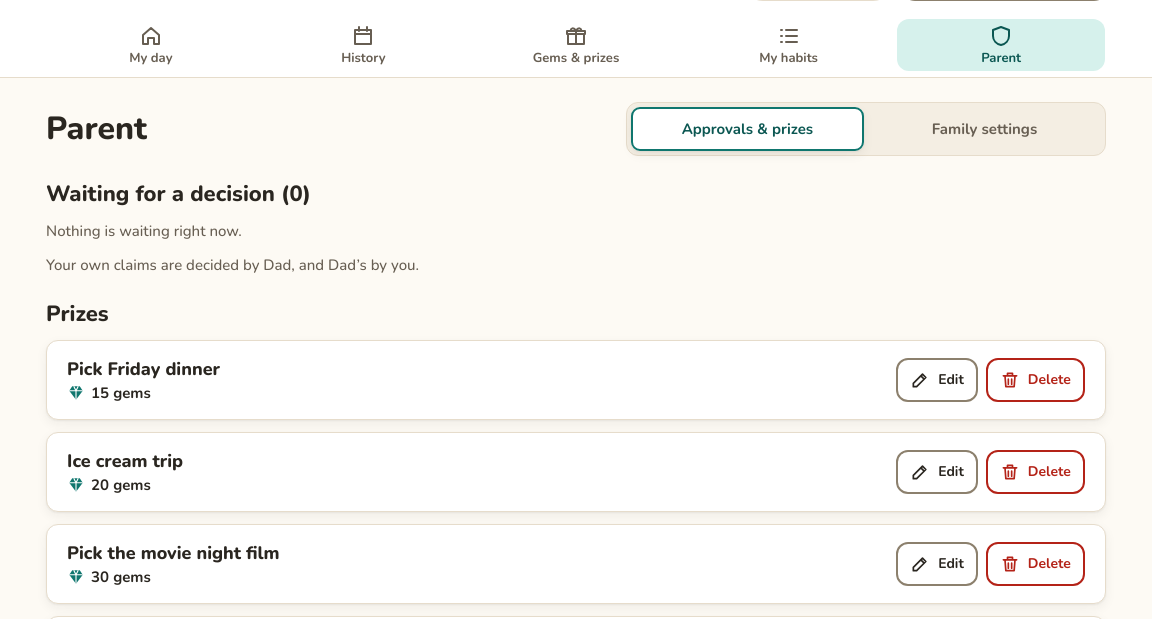
Test: REQ-024 parents manage prizes › a delete that meets a new claim (409) explains why
Click the button named "Delete Pick the movie night film".
click(1035, 564)  # box x1=986 y1=542 x2=1085 y2=586
(page scrolled)
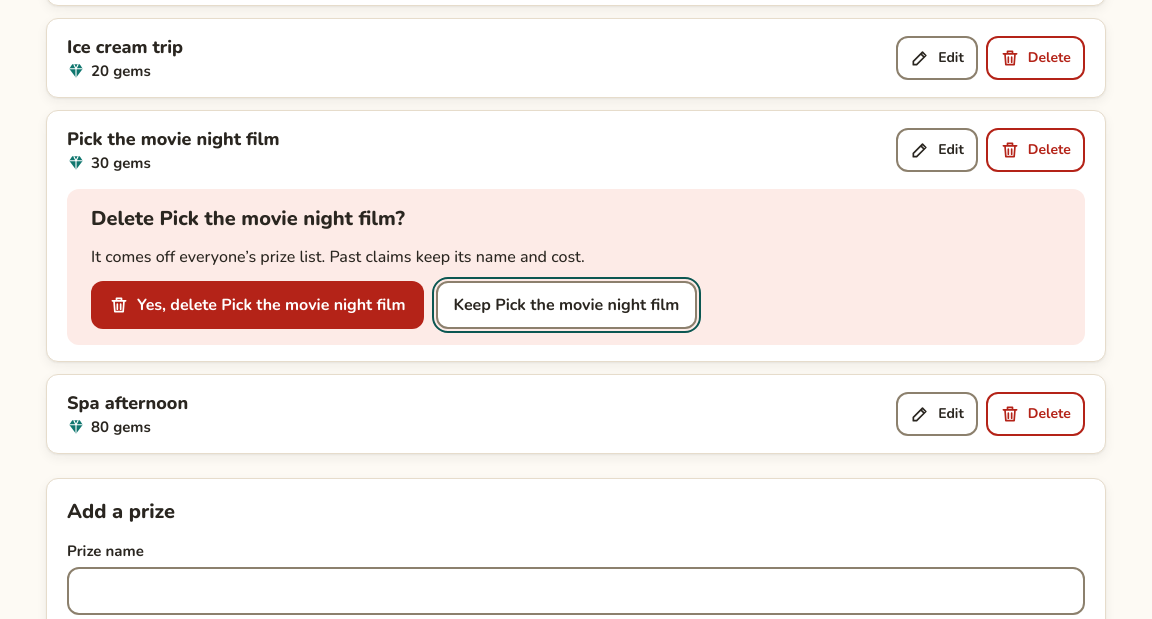
Click the button "Yes, delete Pick the movie night film".
click(257, 305)  # box x1=91 y1=281 x2=424 y2=329
(page scrolled)
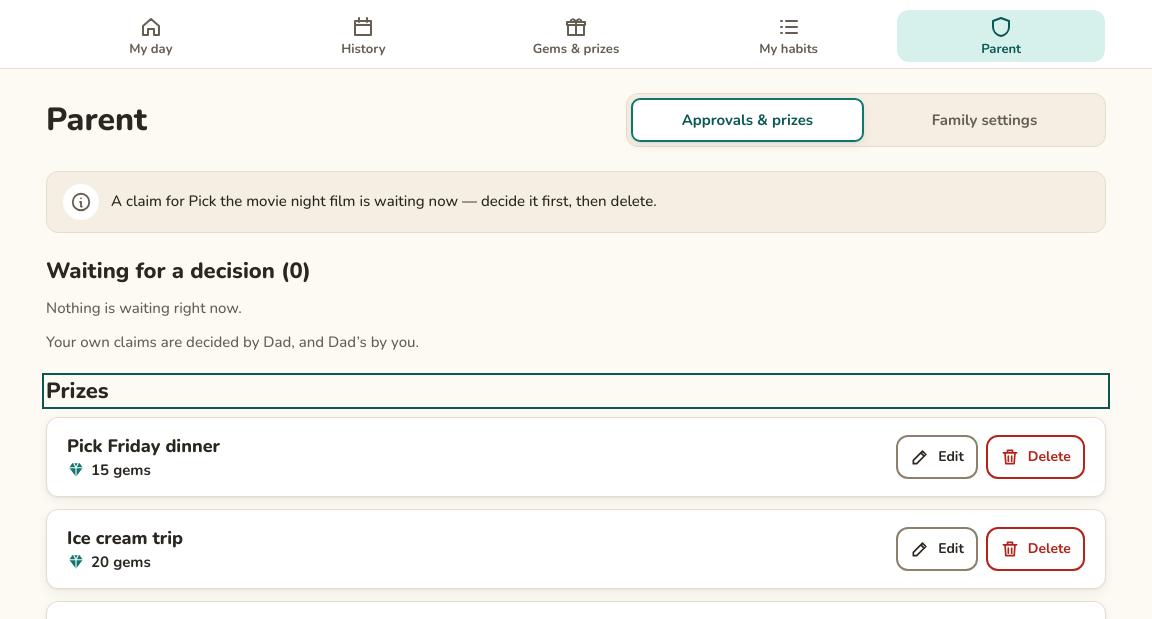
Check: the text "A claim for Pick the movie night film is waiting now — decide it first, then delete." is shown, box x1=111 y1=191 x2=657 y2=211
